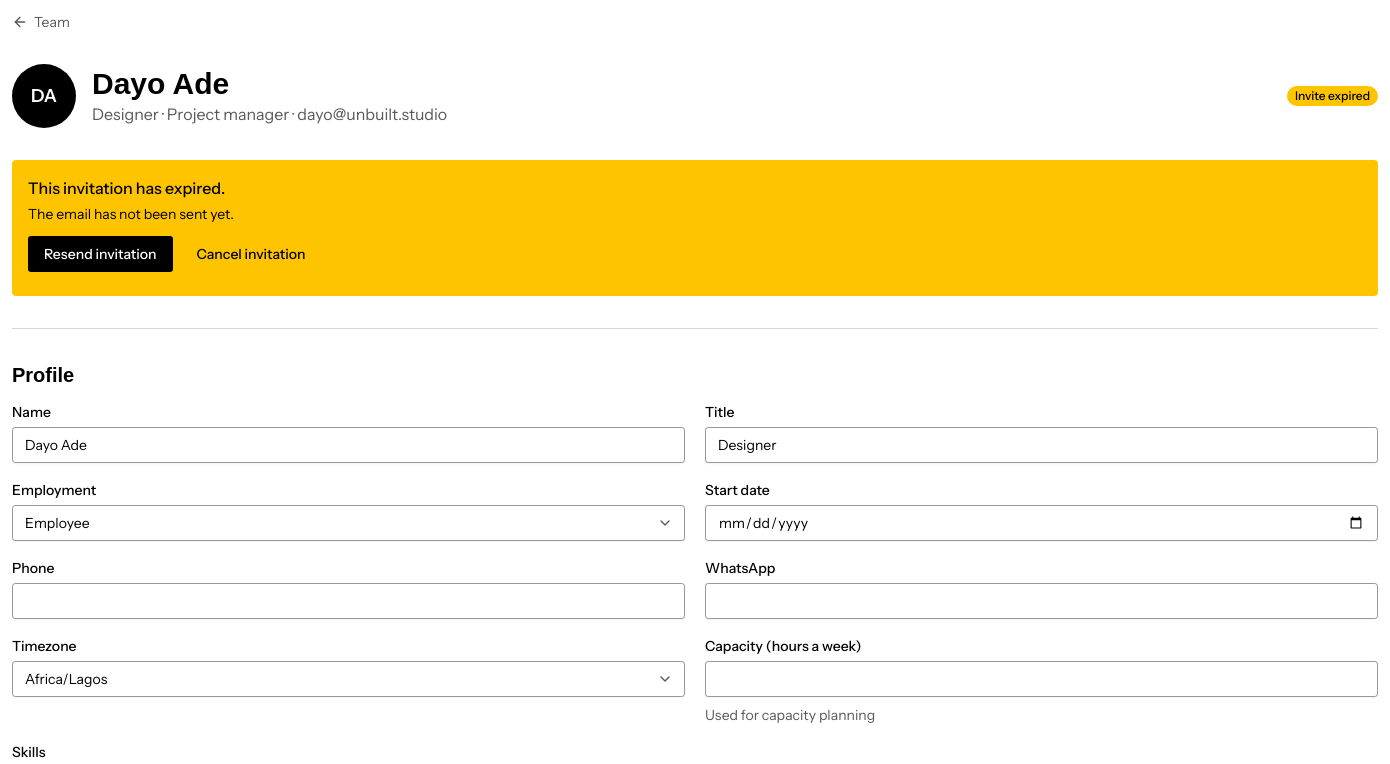
Test: MemberProfile › offers resend and cancel for a pending invitation, highlighting an expired one
This screenshot has width=1390, height=764.
Check: the text "This invitation has expired." is shown, box [28,178,225,198]
Check: the text "Invite expired" is shown, box [1287,86,1378,106]
Click the button "Resend invitation": {"x": 100, "y": 254} [28,236,172,272]
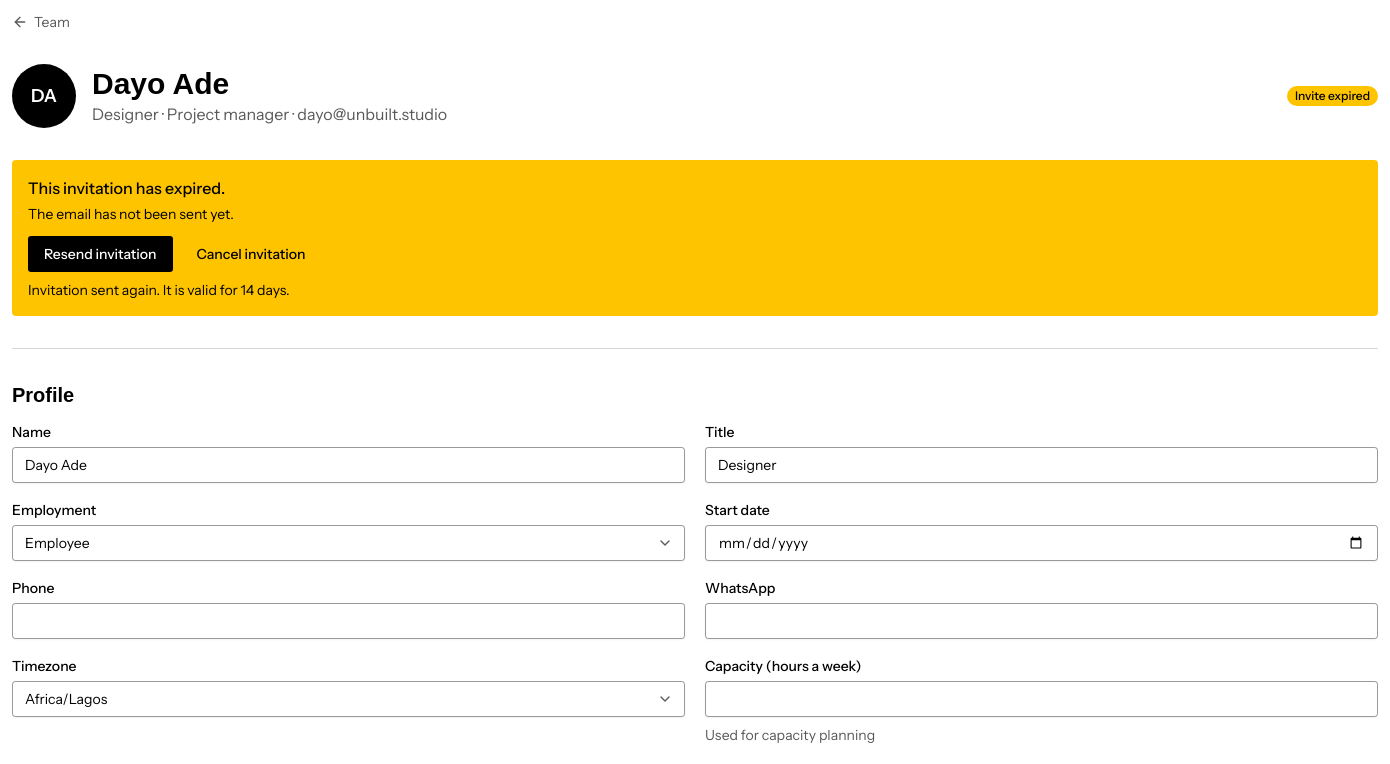
Check: the text "Invitation sent again. It is valid for 14 days." is shown, box [28,281,290,299]
